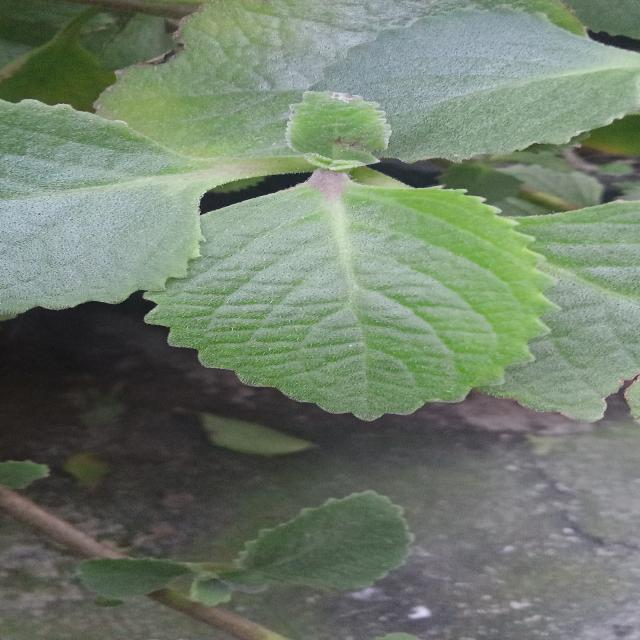Oregano: (100, 156, 599, 444)
